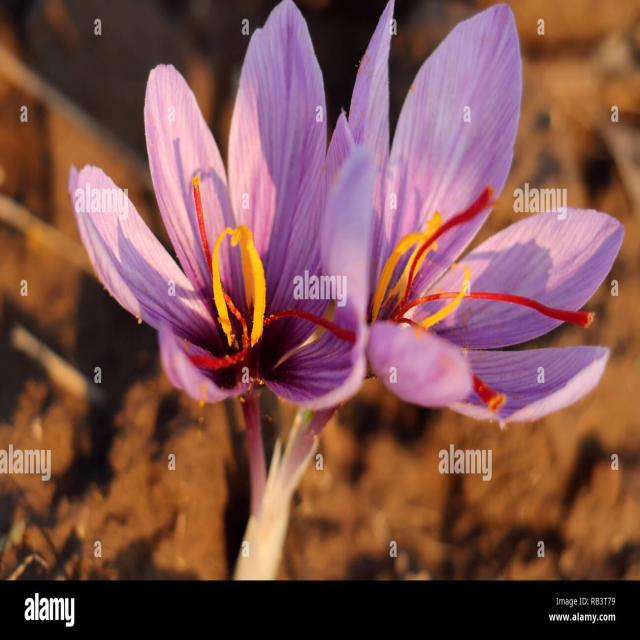Flower: (63, 5, 623, 425)
stigma: (394, 172, 489, 282), (380, 285, 600, 330), (181, 168, 214, 372), (274, 306, 349, 352), (464, 366, 511, 417)
